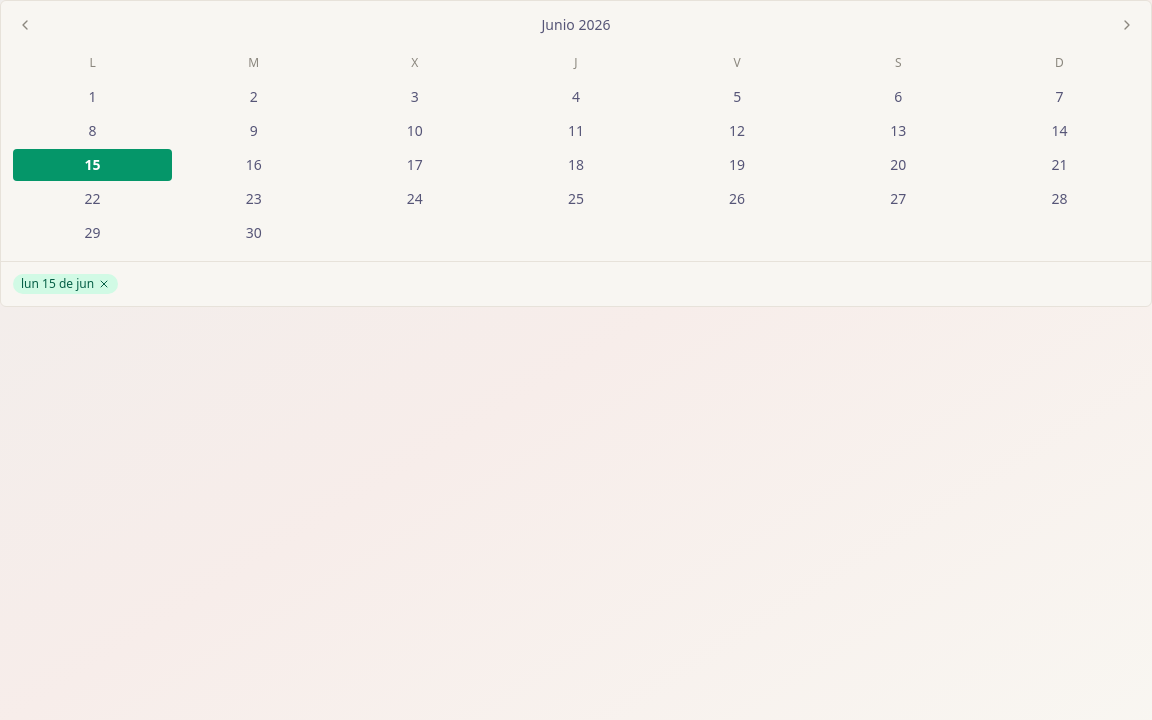
Test case: MultiDateCalendar › navigates to the next month
The image size is (1152, 720).
Click the button named "Mes siguiente": (1127, 25) [1115,13,1139,37]
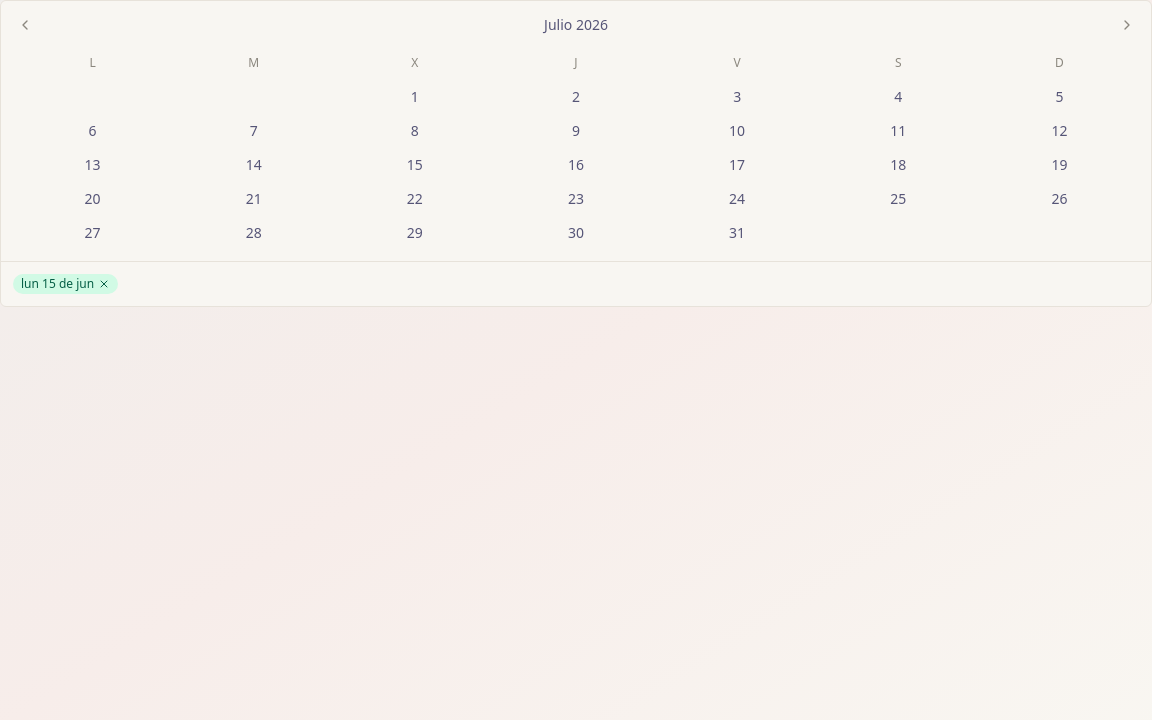
expect the text "Julio 2026" is shown: met, box [544,15,608,34]
